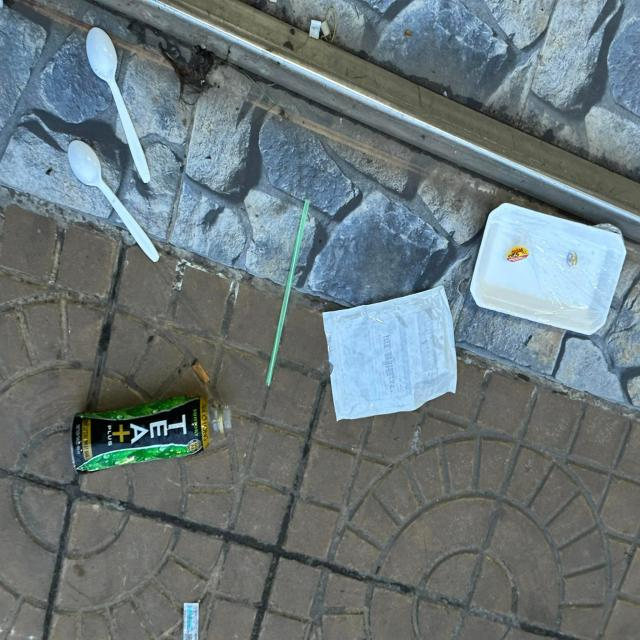bottle: (71, 401, 233, 476)
drinking straw: (265, 199, 309, 387)
foam box: (472, 202, 626, 336)
packet: (323, 287, 457, 422)
plastic utensil: (68, 140, 161, 266), (88, 27, 151, 184)
